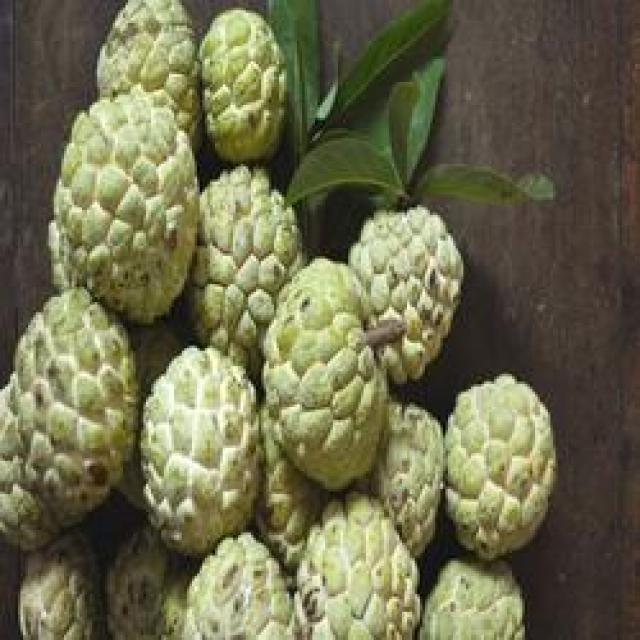apple: (264, 251, 412, 514), (54, 90, 207, 332), (8, 300, 146, 528), (443, 354, 553, 556)
